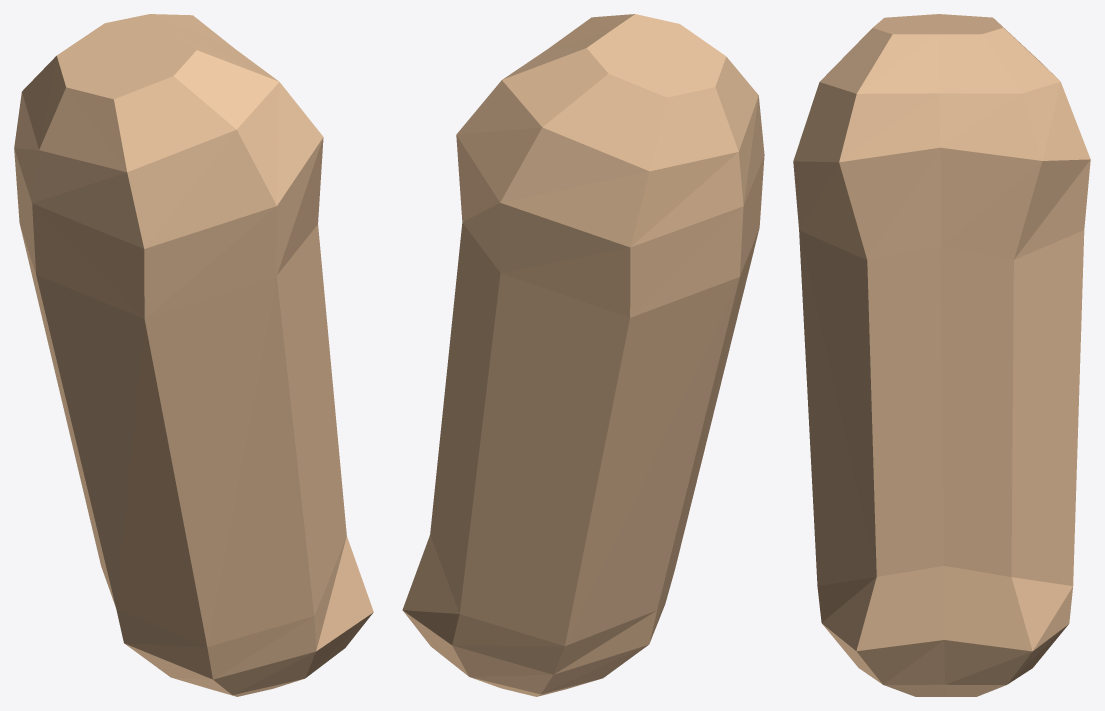
File: LFing31_mesh.dae
The picture shows the model from 3 angles, left to right: view 1: azimuth 30°, elevation 25°; view 2: azimuth 150°, elevation 25°; view 3: azimuth 270°, elevation 25°; orthographic projection. The views are drawn at different scales.
Parts seen in each view (by area): view 1: LFing31; view 2: LFing31; view 3: LFing31.
Part boxes in pixels (left/top/right/bottom): LFing31: left=14, top=14, right=373, bottom=696; LFing31: left=402, top=14, right=764, bottom=696; LFing31: left=793, top=14, right=1090, bottom=696.
Size of the model in its own units: 0.0198 by 0.0426 by 0.0184.
